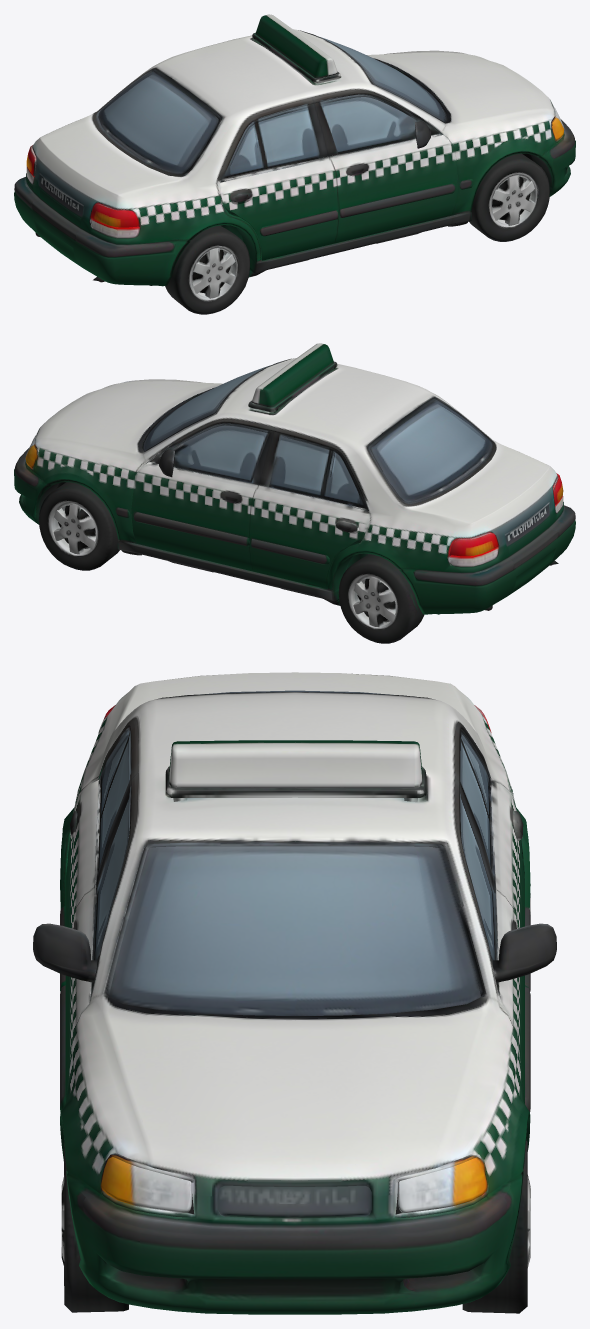
File: city taxi.fbx
The picture shows the model from 3 angles, top to bottom: view 1: azimuth 30°, elevation 25°; view 2: azimuth 150°, elevation 25°; view 3: azimuth 270°, elevation 25°; orthographic projection. The views are drawn at different scales.
Parts seen in each view (by area): view 1: tripo_node_71fdb8c2; view 2: tripo_node_71fdb8c2; view 3: tripo_node_71fdb8c2.
Boxes of the visible parts, <box> form: tripo_node_71fdb8c2: <box>14,14,575,314</box>; tripo_node_71fdb8c2: <box>14,343,575,643</box>; tripo_node_71fdb8c2: <box>33,672,556,1314</box>.
Size of the model in its own units: 0.9995 by 0.3931 by 0.4614.
